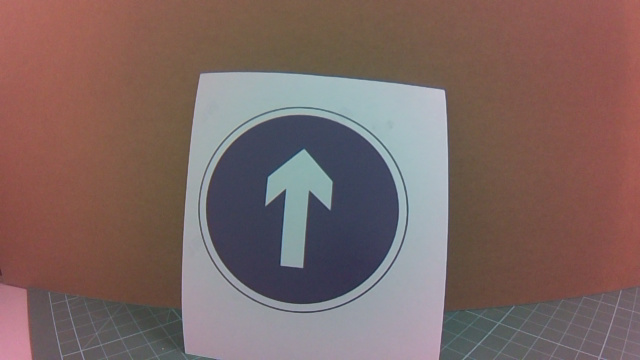forward: (231, 109, 397, 315)
